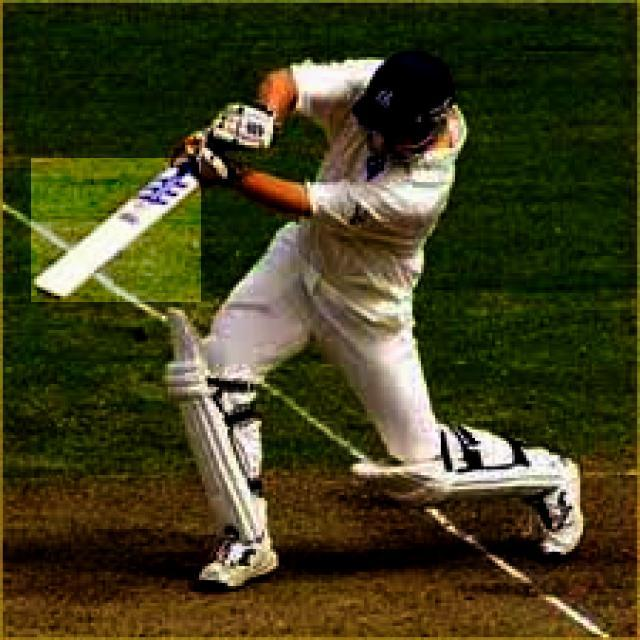bat: (31, 158, 201, 305)
toe: (30, 284, 61, 299)
